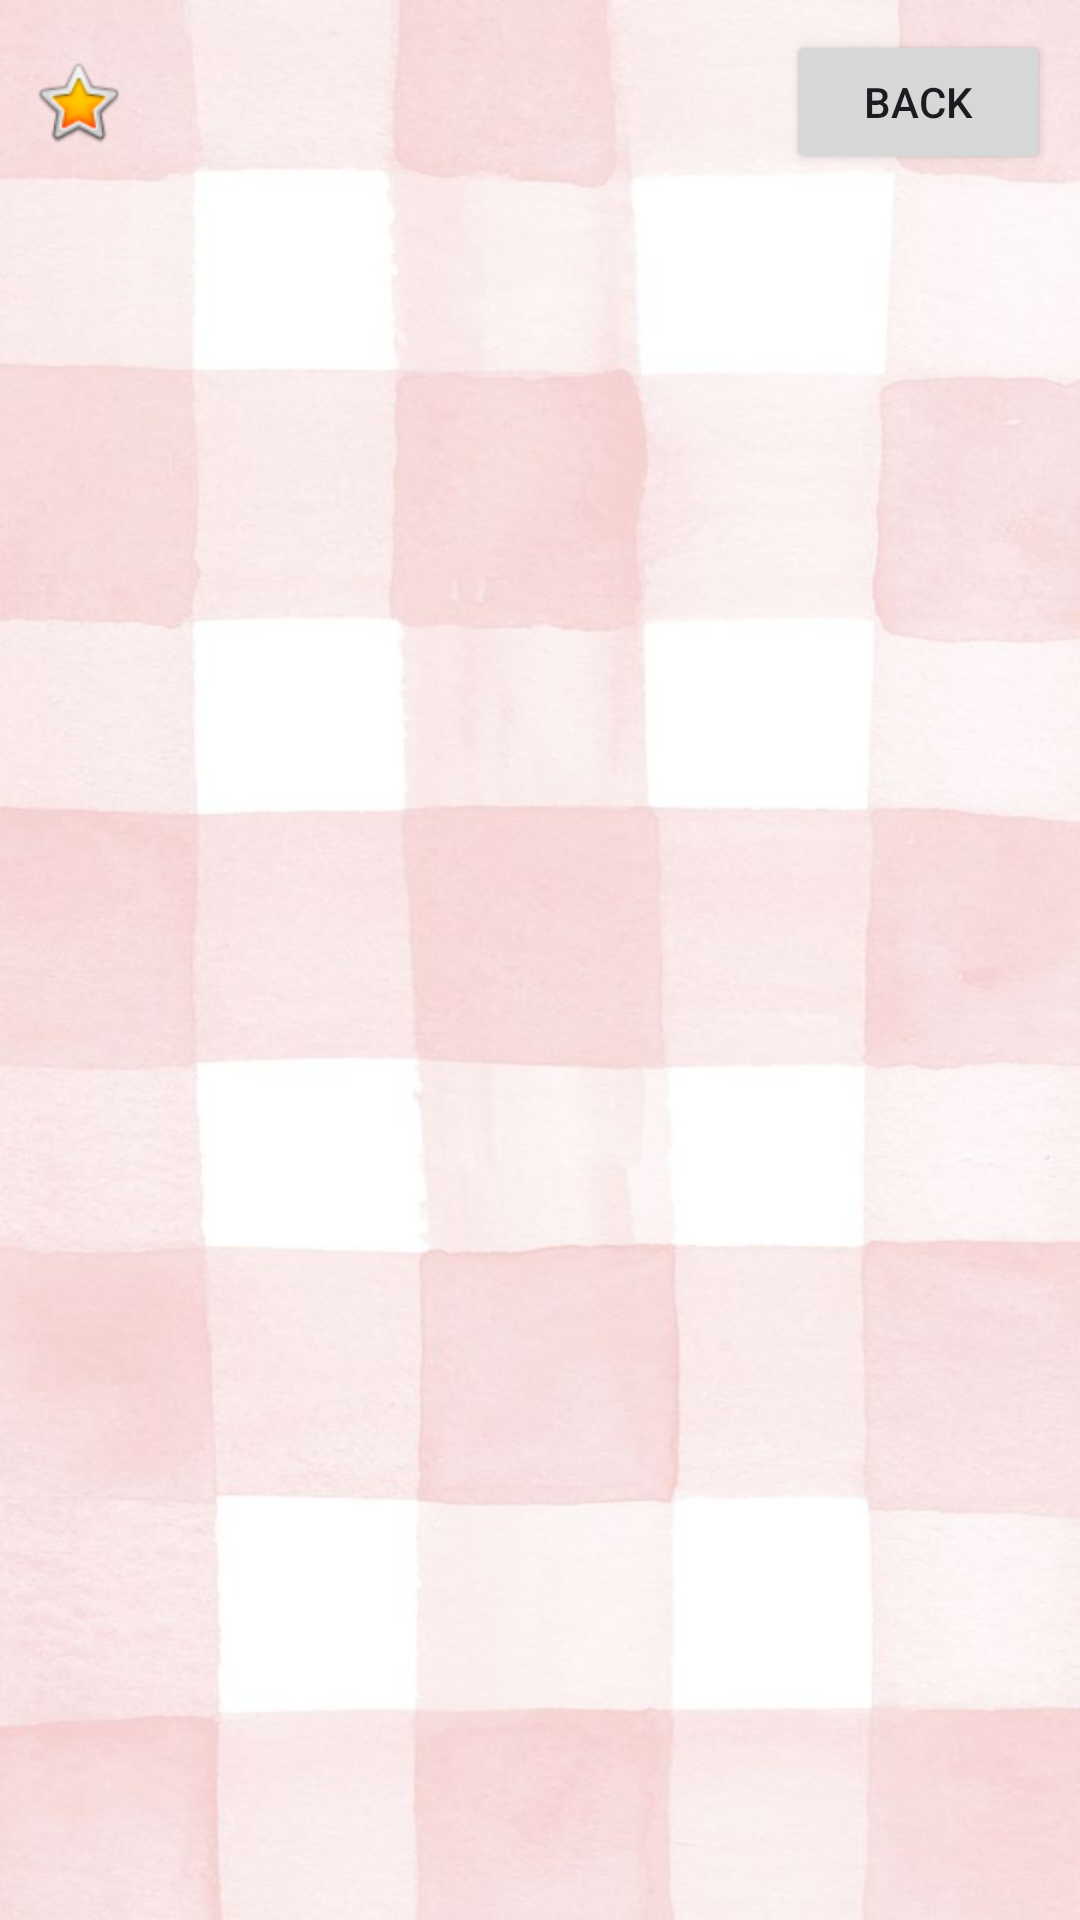

Named icons in this screenshot (1080*1920) and their centers, point (x, y):
star on: point (79, 103)
